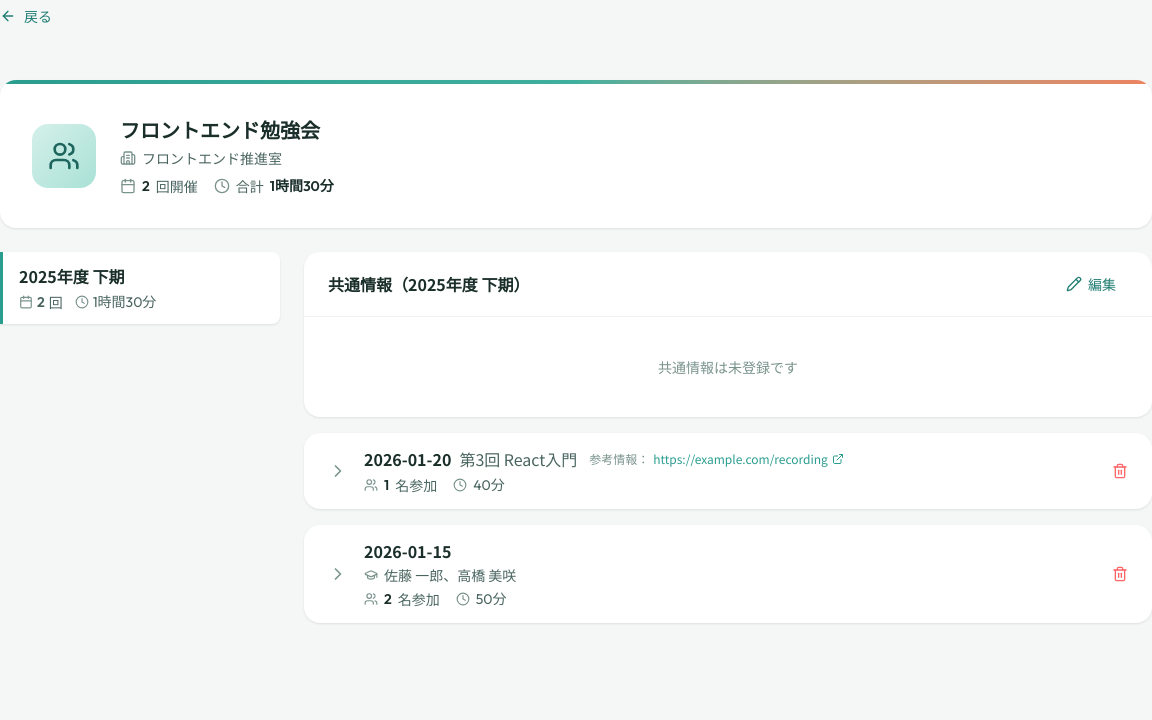
Scenario: GroupDetailPage › 管理者モード — セッション削除 › 削除ボタンクリックで確認ダイアログが表示されること
The image size is (1152, 720).
Expected: the heading "フロントエンド勉強会" is shown, [120,116,334,144]
Click the button named "のセッションを削除" at (1120, 471), box [1104,455,1136,487]
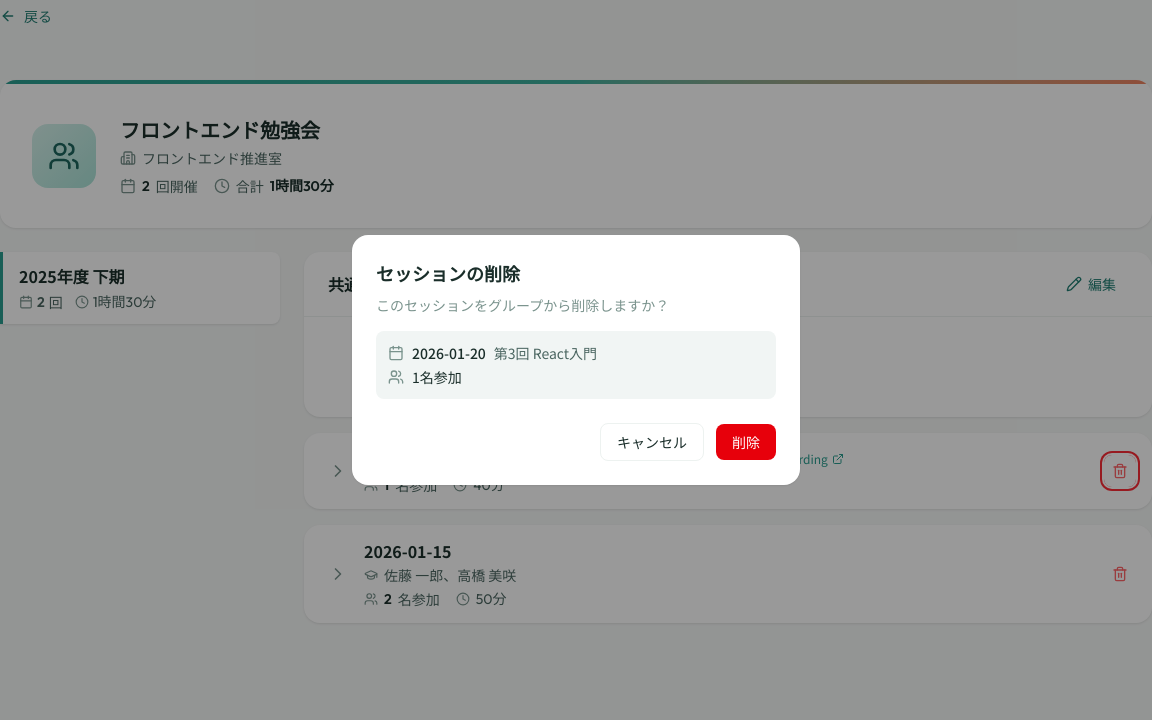
Expected: the dialog is shown, [352,235,800,485]
Expected: the heading "セッションの削除" is shown, [376,260,520,286]
Expected: the button "キャンセル" is shown, [600,423,704,461]
